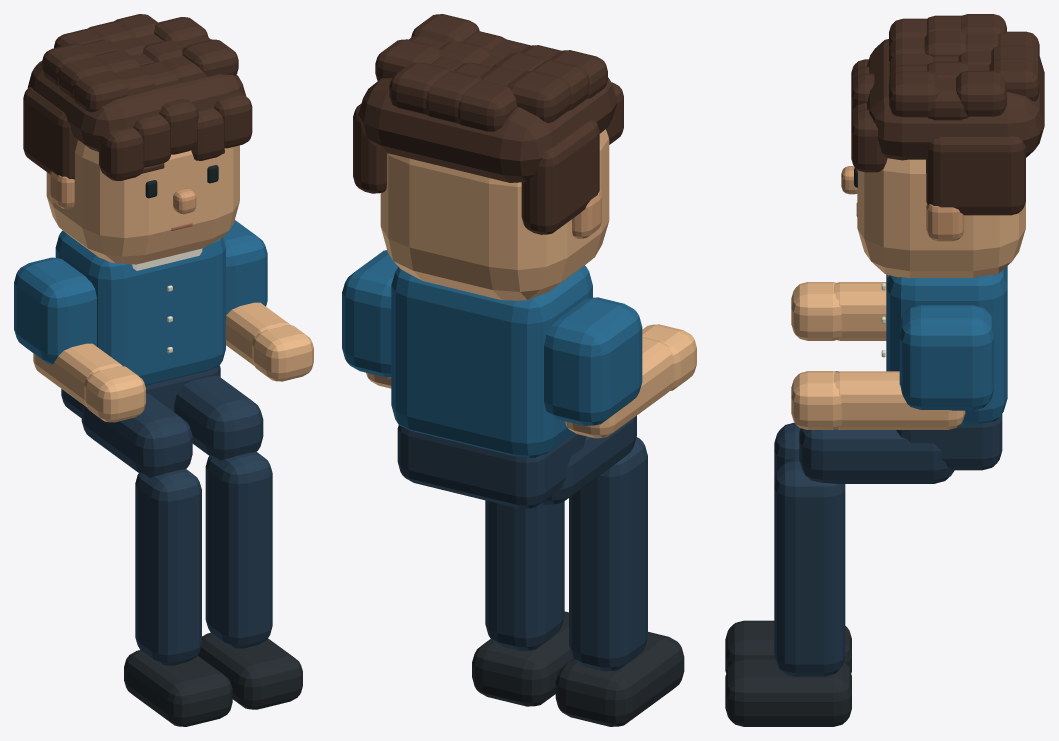
File: employee_seated.glb
The picture shows the model from 3 angles, left to right: view 1: azimuth 30°, elevation 25°; view 2: azimuth 150°, elevation 25°; view 3: azimuth 270°, elevation 25°; orthographic projection. The views are drawn at different scales.
Parts seen in each view (by area): view 1: employee_seated__hair, employee_seated__pants.001, employee_seated__pants, employee_seated__shirt, employee_seated__skin_light.002, employee_seated__shirt.001, employee_seated__shoe, employee_seated__skin_light, employee_seated__shoe.001, employee_seated__skin_light.001, employee_seated__shirt.002, employee_seated__pants.002 (+2 smaller); view 2: employee_seated__hair, employee_seated__shirt, employee_seated__skin_light.002, employee_seated__pants, employee_seated__pants.001, employee_seated__shirt.001, employee_seated__pants.002, employee_seated__shoe, employee_seated__shirt.002, employee_seated__shoe.001, employee_seated__skin_light, employee_seated__skin.001; view 3: employee_seated__hair, employee_seated__pants.001, employee_seated__skin_light.002, employee_seated__shirt.002, employee_seated__skin_light.001, employee_seated__shoe.001, employee_seated__shirt, employee_seated__skin_light, employee_seated__pants.002, employee_seated__shoe, employee_seated__skin.001, employee_seated__pants.
Boxes of the visible parts, bbox=[...] form: employee_seated__hair: bbox=[23, 14, 252, 180]; employee_seated__pants.001: bbox=[174, 376, 272, 648]; employee_seated__pants: bbox=[81, 393, 201, 665]; employee_seated__shirt: bbox=[55, 230, 225, 385]; employee_seated__skin_light.002: bbox=[46, 140, 239, 264]; employee_seated__shirt.001: bbox=[14, 257, 96, 364]; employee_seated__shoe: bbox=[124, 650, 232, 726]; employee_seated__skin_light: bbox=[33, 343, 145, 422]; employee_seated__shoe.001: bbox=[197, 633, 302, 709]; employee_seated__skin_light.001: bbox=[225, 302, 313, 381]; employee_seated__shirt.002: bbox=[223, 220, 267, 314]; employee_seated__pants.002: bbox=[61, 365, 220, 417]; employee_seated__hair: bbox=[353, 14, 623, 234]; employee_seated__shirt: bbox=[391, 265, 592, 457]; employee_seated__skin_light.002: bbox=[380, 129, 609, 300]; employee_seated__pants: bbox=[540, 415, 647, 671]; employee_seated__pants.001: bbox=[485, 500, 564, 650]; employee_seated__shirt.001: bbox=[544, 297, 642, 425]; employee_seated__pants.002: bbox=[397, 425, 586, 508]; employee_seated__shoe: bbox=[555, 632, 684, 726]; employee_seated__shirt.002: bbox=[342, 250, 398, 377]; employee_seated__shoe.001: bbox=[472, 611, 573, 706]; employee_seated__skin_light: bbox=[565, 324, 696, 438]; employee_seated__skin.001: bbox=[572, 190, 601, 238]; employee_seated__hair: bbox=[851, 14, 1044, 215]; employee_seated__pants.001: bbox=[774, 428, 954, 676]; employee_seated__skin_light.002: bbox=[857, 158, 1025, 278]; employee_seated__shirt.002: bbox=[899, 305, 994, 410]; employee_seated__skin_light.001: bbox=[791, 371, 965, 429]; employee_seated__shoe.001: bbox=[725, 658, 851, 726]; employee_seated__shirt: bbox=[886, 266, 1007, 424]; employee_seated__skin_light: bbox=[791, 282, 886, 340]; employee_seated__pants.002: bbox=[896, 414, 1002, 470]; employee_seated__shoe: bbox=[725, 620, 851, 672]; employee_seated__skin.001: bbox=[841, 166, 964, 241]; employee_seated__pants: bbox=[774, 371, 838, 479].
Size of the model in its own units: 0.535 by 1.36 by 0.605.
